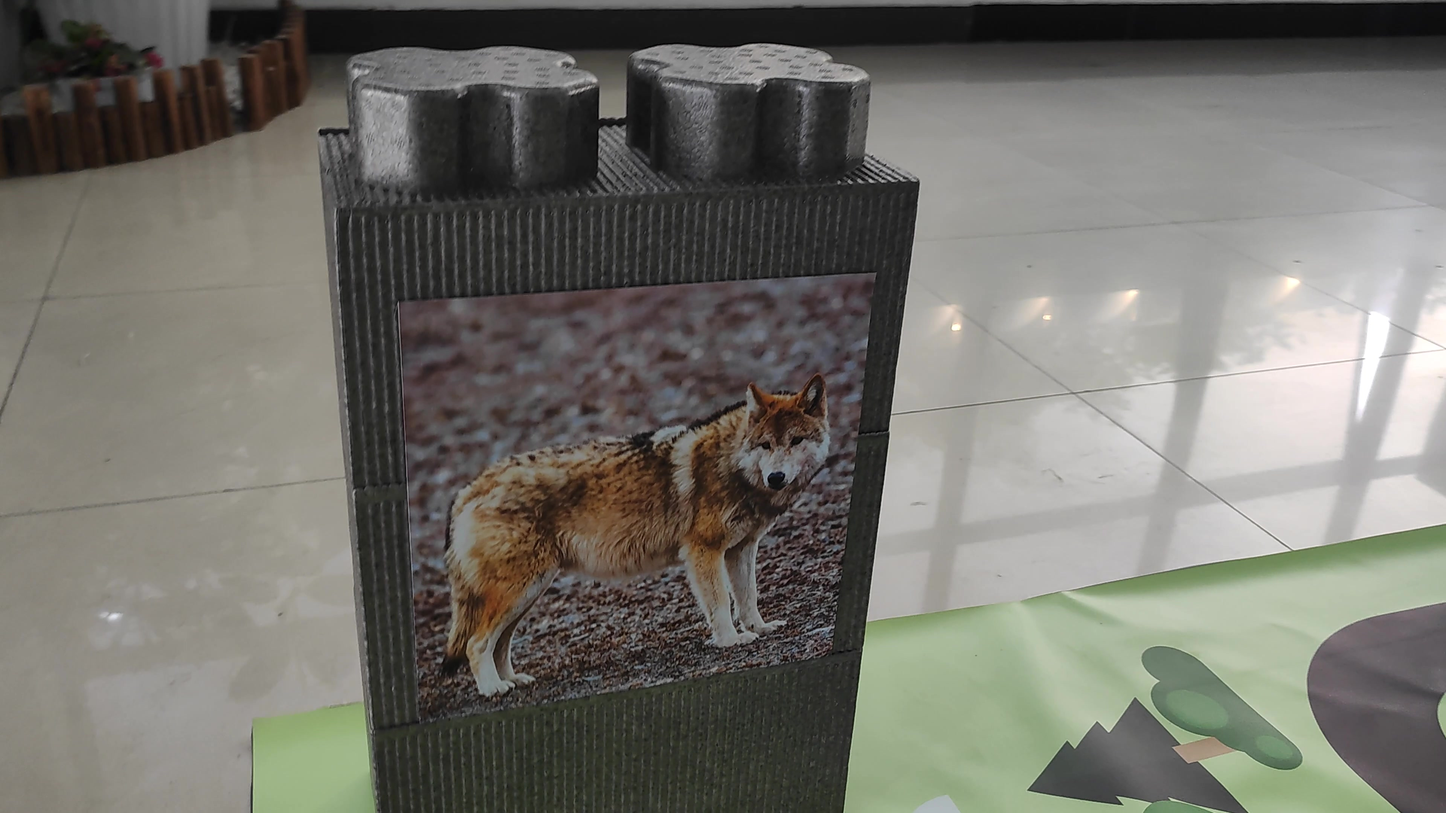wolf: (420, 346, 840, 699)
